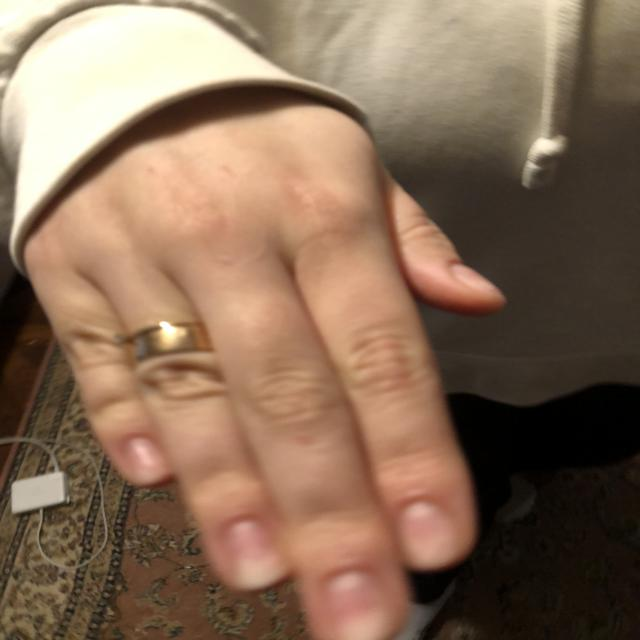paper: (47, 156, 510, 638)
